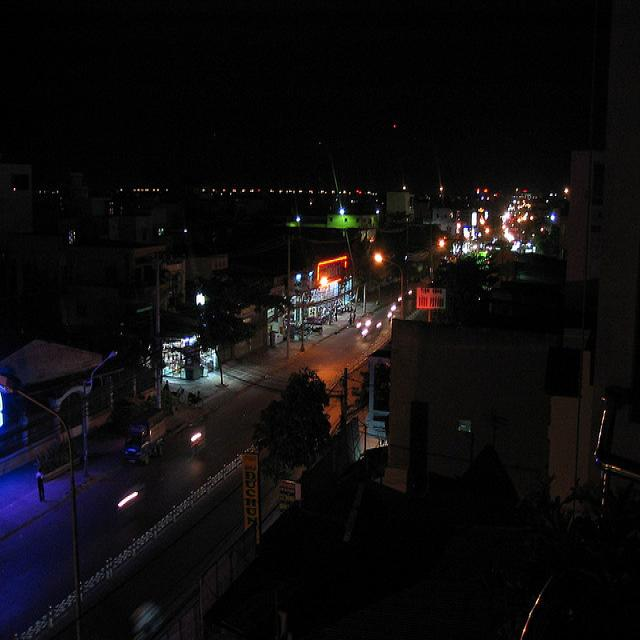motor: (187, 390, 203, 408), (193, 437, 205, 460), (389, 316, 392, 324)
